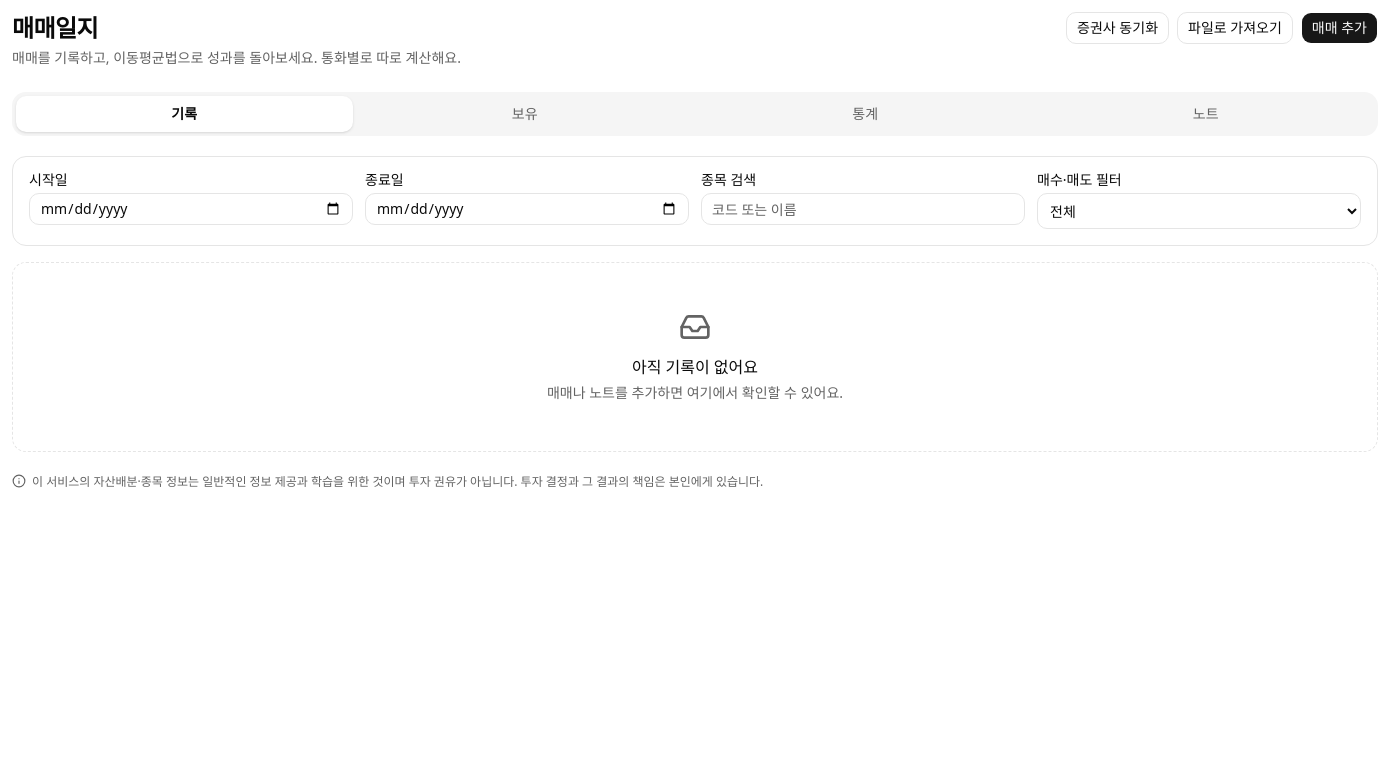
Test: 매매일지 증권사 동기화 버튼 › 활성 연결이 없으면 동기화하지 않고 연결 설정 안내와 링크를 보여 준다
Click the button "증권사 동기화" at point(1118, 28), box [1066,12,1169,44]
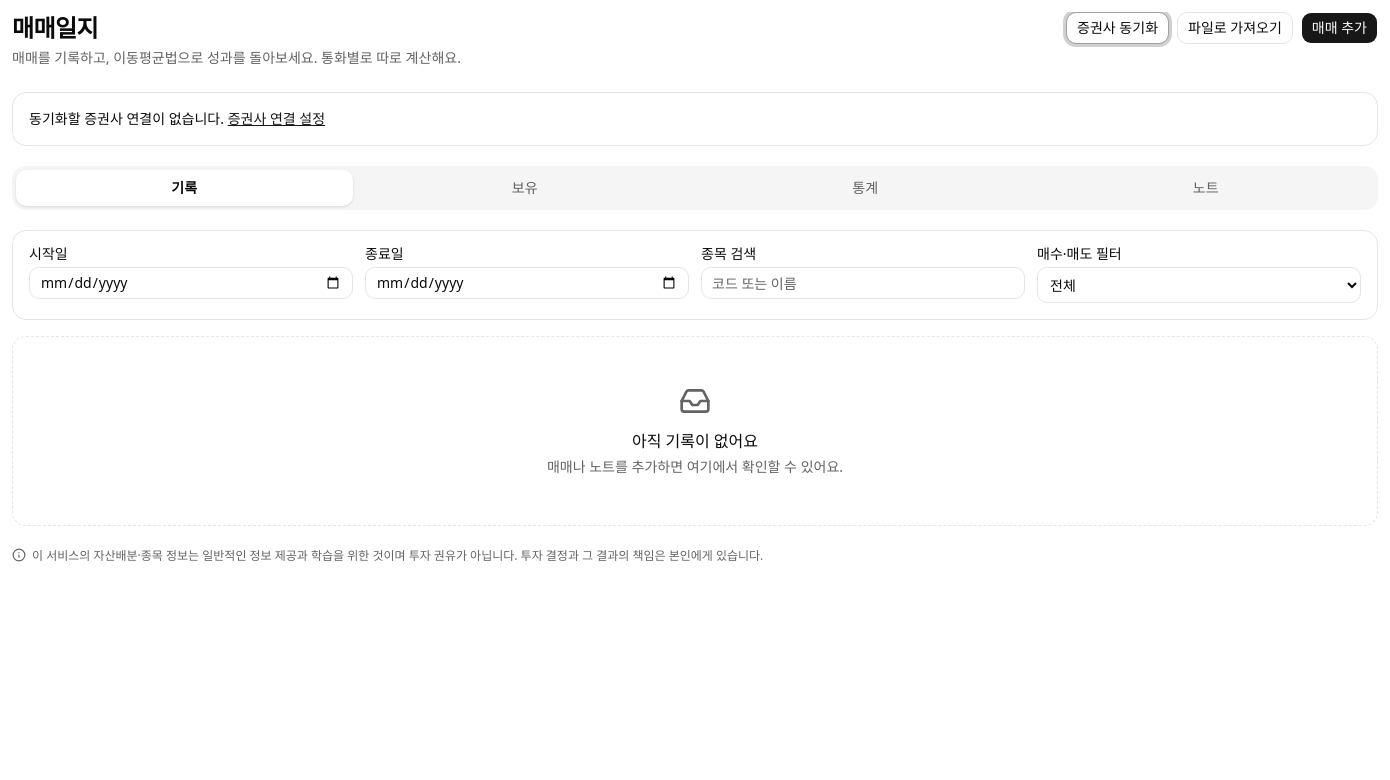
Expected: the text "동기화할 증권사 연결이 없습니다. 증권사 연결 설정" is shown, [29,109,325,128]
